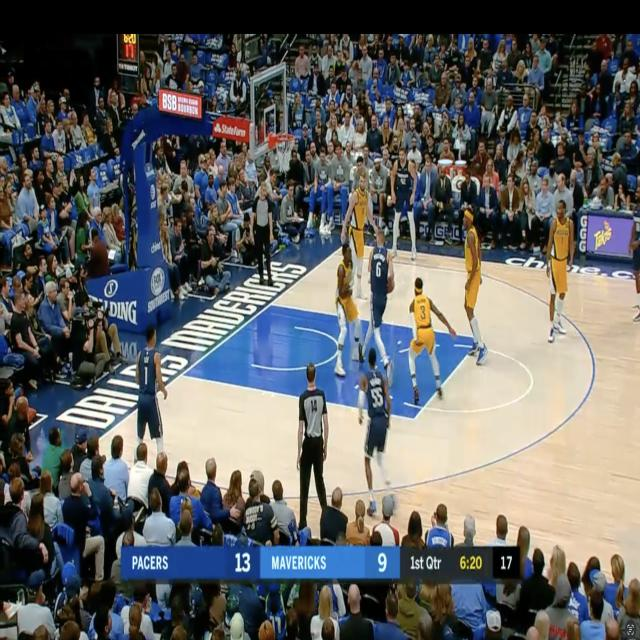no foul: (406, 200, 496, 406), (323, 237, 395, 381), (349, 169, 393, 299)
